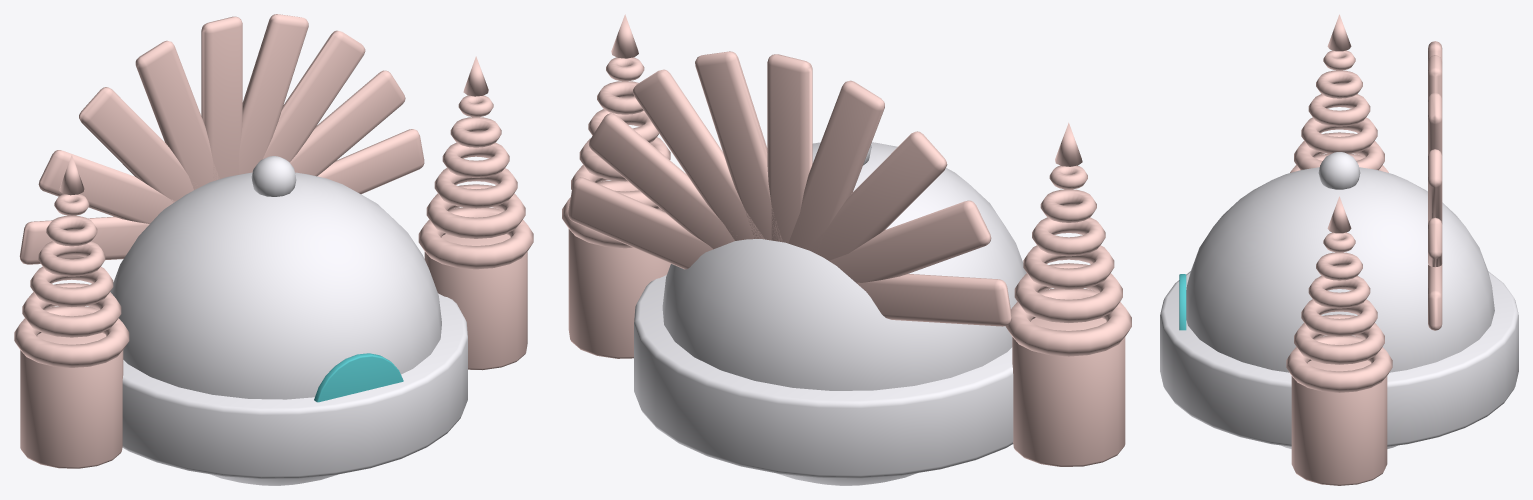
Rendered from ShellPalace.fbx.
3 views of the same model, side by side, from view 1: azimuth 30°, elevation 25°; view 2: azimuth 150°, elevation 25°; view 3: azimuth 270°, elevation 25° (orthographic). The views are drawn at different scales.
Visible parts, largest first — view 1: ShellPalace_Dome, ShellPalace_Fan, ShellPalace_TowerL, ShellPalace_TowerR, ShellPalace_Door, ShellPalace_Pearl; view 2: ShellPalace_Dome, ShellPalace_Fan, ShellPalace_TowerL, ShellPalace_TowerR; view 3: ShellPalace_Dome, ShellPalace_TowerR, ShellPalace_TowerL, ShellPalace_Fan, ShellPalace_Pearl, ShellPalace_Door.
Part boxes in pixels (x1,y1,x2,y2): ShellPalace_Dome: (110, 172, 467, 485); ShellPalace_Fan: (19, 14, 424, 264); ShellPalace_TowerL: (14, 155, 129, 468); ShellPalace_TowerR: (418, 56, 533, 370); ShellPalace_Door: (314, 353, 403, 402); ShellPalace_Pearl: (251, 156, 296, 196); ShellPalace_Dome: (634, 142, 1026, 485); ShellPalace_Fan: (568, 51, 1011, 326); ShellPalace_TowerL: (1005, 122, 1131, 466); ShellPalace_TowerR: (562, 14, 670, 358); ShellPalace_Dome: (1160, 167, 1518, 448); ShellPalace_TowerR: (1286, 196, 1392, 485); ShellPalace_TowerL: (1290, 14, 1388, 172); ShellPalace_Fan: (1428, 41, 1442, 330); ShellPalace_Pearl: (1318, 152, 1360, 189); ShellPalace_Door: (1179, 274, 1186, 330).
Bounding box in the file's own units: 900 × 700 × 600.
